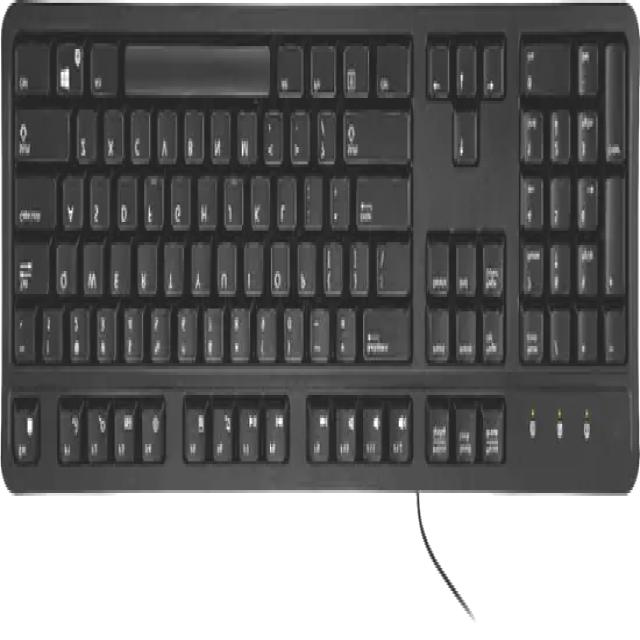clavier: (1, 3, 640, 516)
